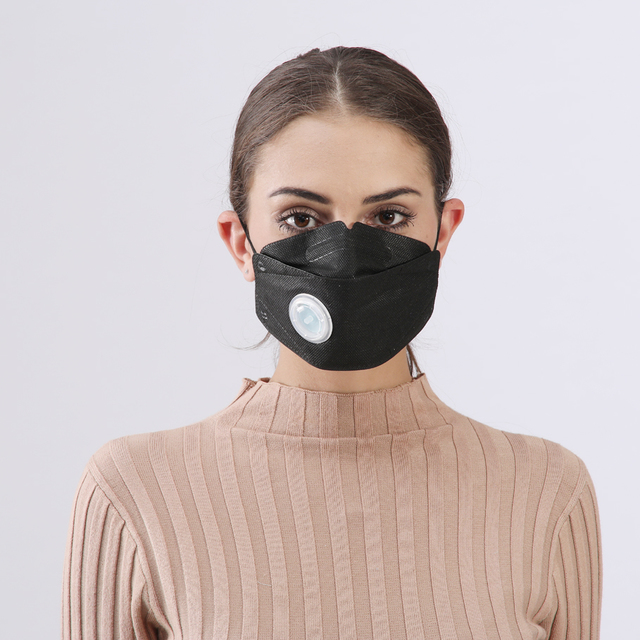mask: (250, 248, 450, 368)
